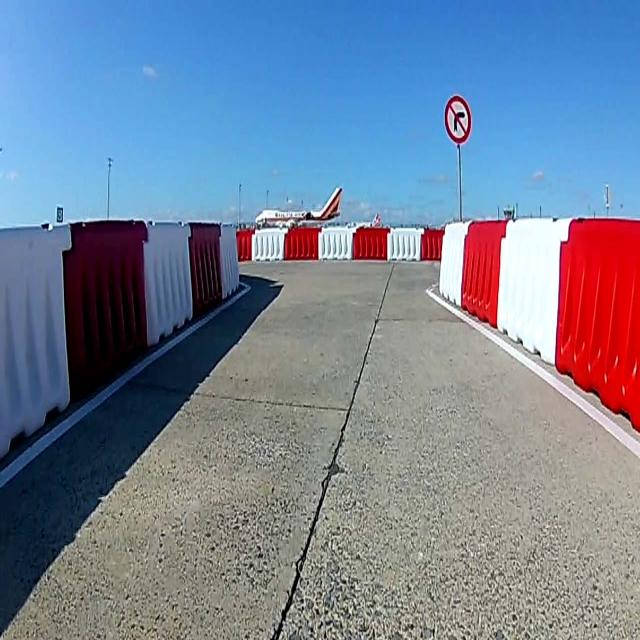sagadonulmez: (443, 94, 472, 144)
